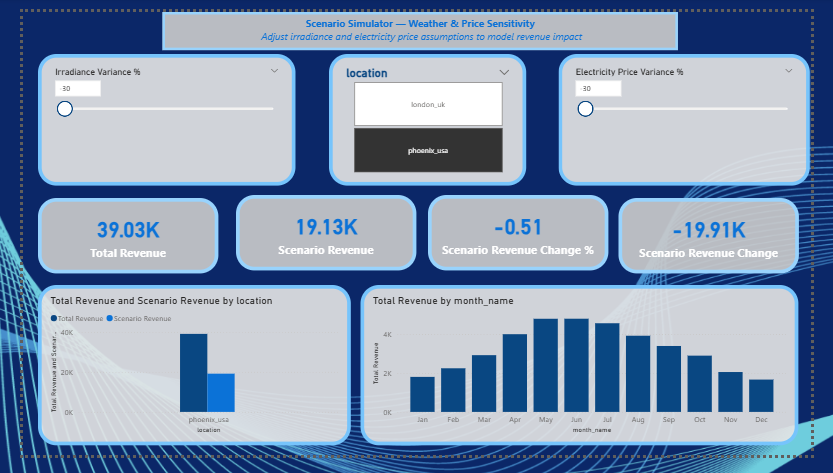

This screenshot's page, from the dashboard's own definition file:
{"tool":"powerbi","page":{"name":"Scenario Simulator","canvas":[1280,720],"ordinal":3},"visuals":[{"type":"slicer","fields":{"Values":["Irradiance Variance %.Irradiance Variance %"]},"box":[24.1,69,419,213.8],"z":0},{"type":"slicer","fields":{"Values":["Electricity Price Variance %.Electricity Price Variance %"]},"box":[870.7,69,408.6,213.8],"z":1000},{"type":"card","title":"Total Production","fields":{"Values":["production_clean.Scenario Revenue Change"]},"box":[967.2,301.7,293.1,122.4],"z":2000},{"type":"card","title":"Total Production","fields":{"Values":["production_clean.Scenario Revenue Change %"]},"box":[658.6,298.3,293.1,122.4],"z":3000},{"type":"card","title":"Total Production","fields":{"Values":["production_clean.Scenario Revenue"]},"box":[346.6,298.3,293.1,122.4],"z":4000},{"type":"card","title":"Total Production","fields":{"Values":["production_clean.Total Revenue"]},"box":[24.1,301.7,293.1,122.4],"z":5000},{"type":"clusteredColumnChart","fields":{"Y":["production_clean.Total Revenue","production_clean.Scenario Revenue"],"Category":["production_clean.location"]},"box":[24.1,444.8,508.6,260.3],"z":6000},{"type":"clusteredColumnChart","fields":{"Category":["production_clean.month_name"],"Y":["production_clean.Total Revenue"]},"box":[548.3,444.8,712.1,260.3],"z":7000},{"type":"slicer","fields":{"Values":["production_clean.location"]},"box":[498.3,69,320.7,213.8],"z":8000},{"type":"textbox","box":[225.9,0,837.9,62.1],"z":8001}]}

Visuals, with their boxes in screenshot pixels (x1, y1, x2, y2), scaled from the page's 1280x720 canvas onto the 833x473 screenshot:
slicer - Irradiance Variance %.Irradiance Variance %: 16 45 288 186
slicer - Electricity Price Variance %.Electricity Price Variance %: 567 45 832 186
"Total Production" card: 629 198 820 279
"Total Production" card: 429 196 619 276
"Total Production" card: 226 196 416 276
"Total Production" card: 16 198 206 279
clusteredColumnChart - production_clean.Total Revenue x production_clean.Scenario Revenue: 16 292 347 463
clusteredColumnChart - production_clean.month_name x production_clean.Total Revenue: 357 292 820 463
slicer - production_clean.location: 324 45 533 186
textbox: 147 0 692 41
